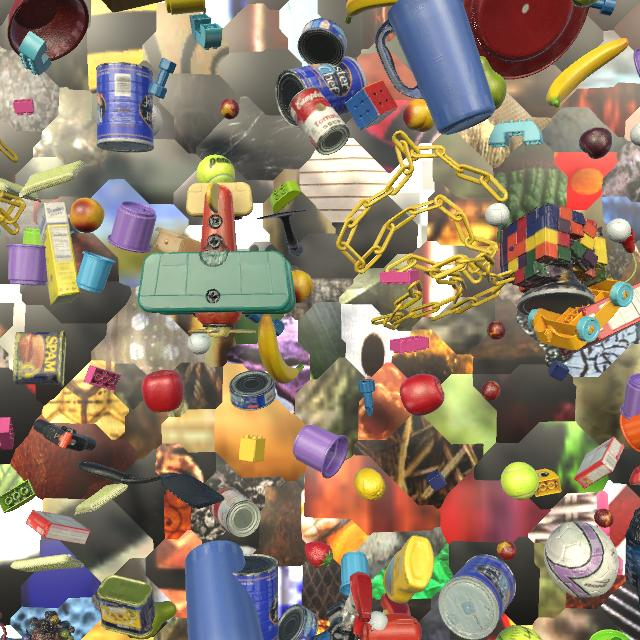ycb_002_master_chef_can: (438, 554, 516, 640), (275, 57, 367, 127), (96, 62, 154, 153), (232, 554, 279, 640)
ycb_003_cracker_box: (559, 282, 640, 356)
ycb_004_sugar_box: (36, 201, 80, 305)
ycb_005_tomato_soup_can: (288, 87, 350, 155), (209, 487, 261, 537)
ycb_006_mustard_bottle: (383, 535, 434, 604)
ycb_007_tuna_fish_can: (298, 18, 347, 67), (229, 370, 276, 410), (278, 604, 319, 640)
ycb_009_gelatin_box: (574, 437, 624, 489), (26, 510, 91, 545)
ycb_010_potted_meat_can: (97, 575, 156, 638), (13, 330, 66, 386)
ycb_011_banana: (546, 38, 629, 108), (258, 314, 304, 384), (345, 0, 398, 24)
ycb_012_strawberry: (305, 542, 333, 568)
ycb_013_apple: (400, 374, 445, 416), (142, 370, 184, 413)
ycb_014_lemon: (354, 468, 385, 501)
ycb_015_peach: (70, 198, 105, 233), (403, 99, 435, 132), (292, 270, 314, 304)
ycb_016_pear: (130, 601, 176, 639), (480, 56, 507, 110)
ycb_018_plum: (579, 127, 612, 159)
